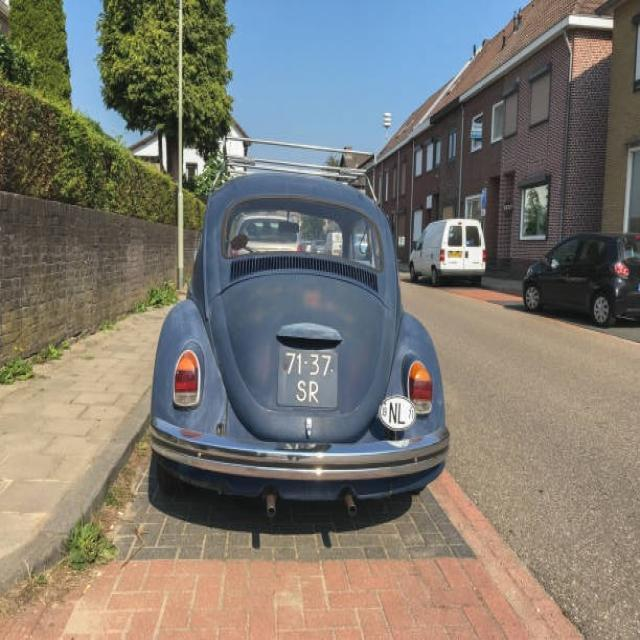car: (163, 160, 453, 507), (516, 229, 640, 327), (416, 217, 483, 287)
